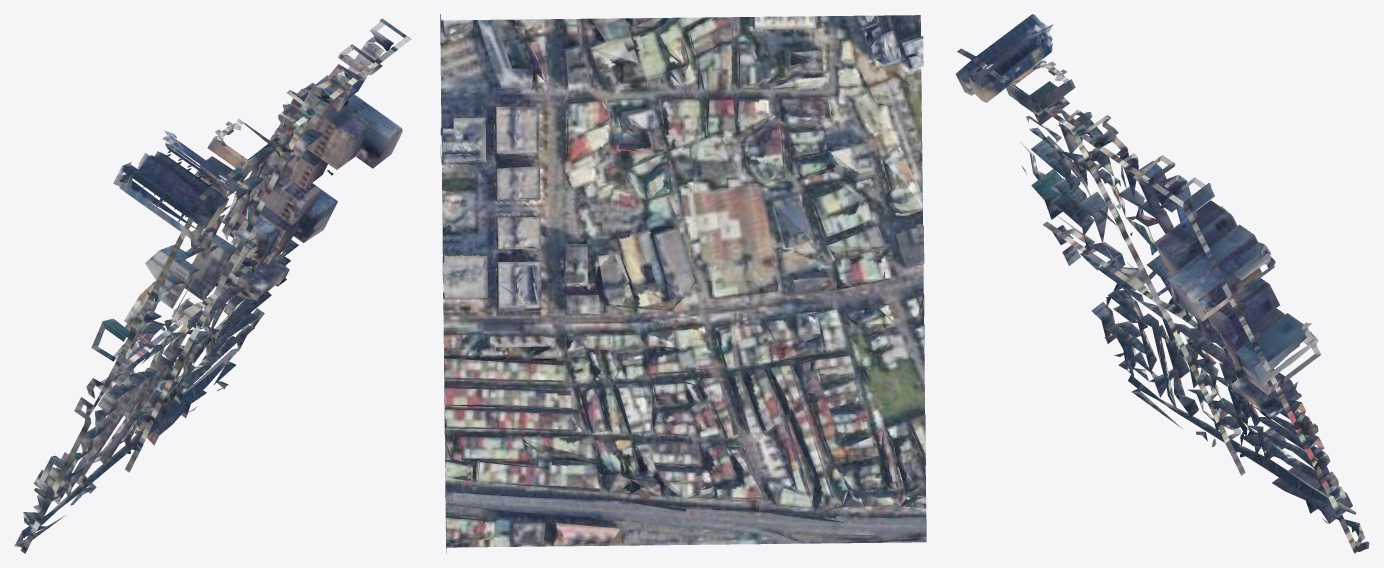
3 renders of one model, left to right at view 1: azimuth 30°, elevation 25°; view 2: azimuth 150°, elevation 25°; view 3: azimuth 270°, elevation 25°, orthographic. The views are drawn at different scales.
Size of the model in its own units: 616 by 598 by 530.
Materials: 1 (1 with a texture image).
